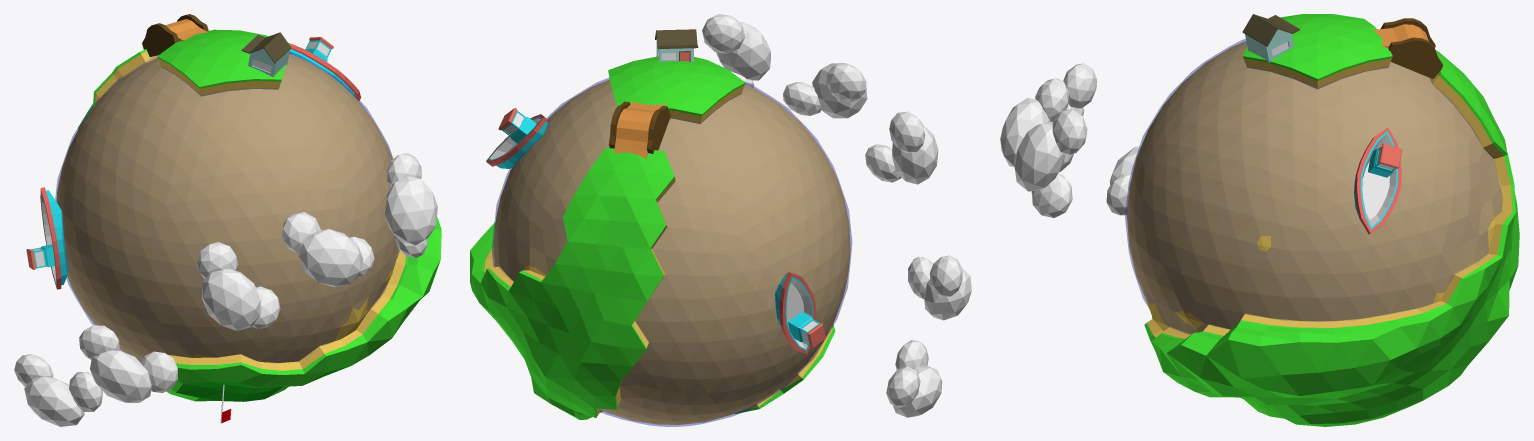
File: globe.glb
3 renders of one model, left to right at view 1: azimuth 30°, elevation 25°; view 2: azimuth 150°, elevation 25°; view 3: azimuth 270°, elevation 25°, orthographic. The views are drawn at different scales.
Parts seen in each view (by area): view 1: Icosphere, water, cloud_ref.004, cloud_ref.005, cloud_ref.001, cloud_ref.003, cloud_ref.006, boat_ref.001, Cube.003, shop_ref.001, boat_ref.002; view 2: Icosphere, water, cloud_ref.004, cloud_ref.001, cloud_ref.003, cloud_ref.005, cloud_ref.006, boat_ref.001, Cube.003, boat_ref.002, shop_ref.001; view 3: Icosphere, water, cloud_ref.003, boat_ref.002, cloud_ref.001, Cube.003, shop_ref.001, cloud_ref.004, cloud_ref.005.
Part boxes in pixels (<box>): Icosphere: <box>56,29,441,401</box>; water: <box>55,52,399,362</box>; cloud_ref.004: <box>196,242,280,330</box>; cloud_ref.005: <box>79,325,177,402</box>; cloud_ref.001: <box>281,212,374,286</box>; cloud_ref.003: <box>384,153,437,257</box>; cloud_ref.006: <box>14,354,102,426</box>; boat_ref.001: <box>26,187,68,289</box>; Cube.003: <box>142,14,208,57</box>; shop_ref.001: <box>241,32,291,76</box>; boat_ref.002: <box>288,37,361,100</box>; Icosphere: <box>470,56,850,424</box>; water: <box>492,78,851,426</box>; cloud_ref.004: <box>865,111,938,184</box>; cloud_ref.001: <box>783,63,867,118</box>; cloud_ref.003: <box>702,14,770,87</box>; cloud_ref.005: <box>908,255,971,320</box>; cloud_ref.006: <box>886,339,942,417</box>; boat_ref.001: <box>775,272,825,353</box>; Cube.003: <box>608,101,670,158</box>; boat_ref.002: <box>486,108,548,168</box>; shop_ref.001: <box>655,29,698,61</box>; Icosphere: <box>1127,14,1519,426</box>; water: <box>1125,39,1502,334</box>; cloud_ref.003: <box>1014,109,1087,217</box>; boat_ref.002: <box>1354,127,1402,234</box>; cloud_ref.001: <box>1000,78,1069,167</box>; Cube.003: <box>1373,18,1442,78</box>; shop_ref.001: <box>1242,14,1300,62</box>; cloud_ref.004: <box>1059,63,1096,172</box>; cloud_ref.005: <box>1106,146,1140,215</box>.
Bounding box in the file's own units: 5.48 × 4.5 × 5.44.
